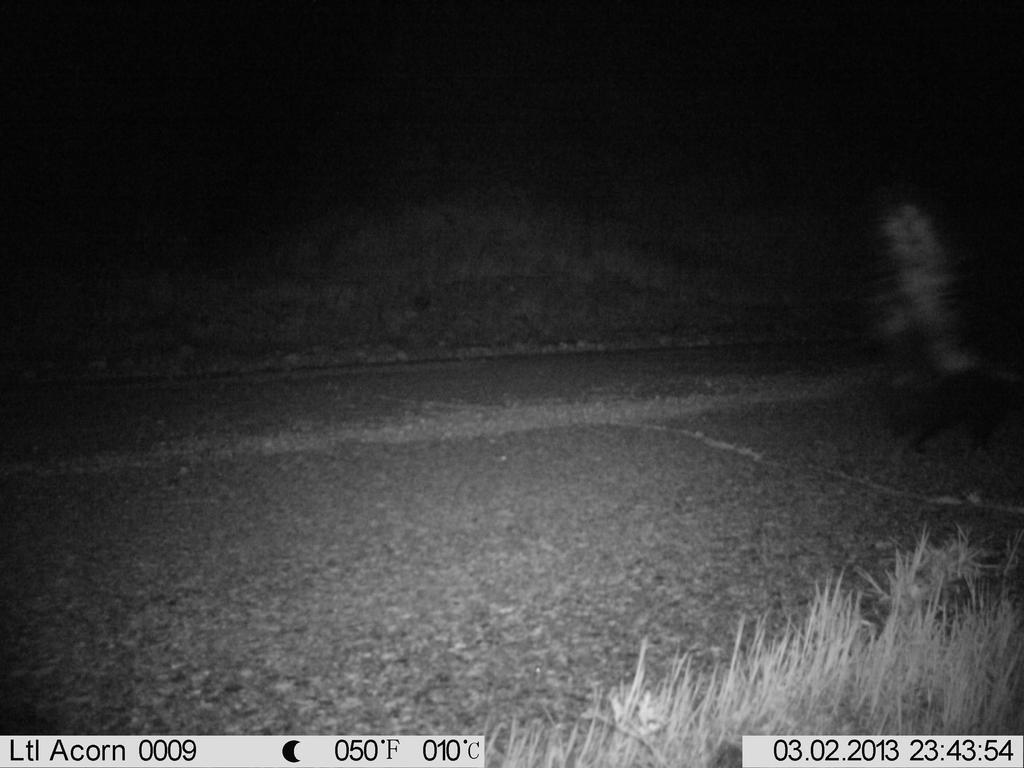skunk: (863, 191, 1023, 479)
